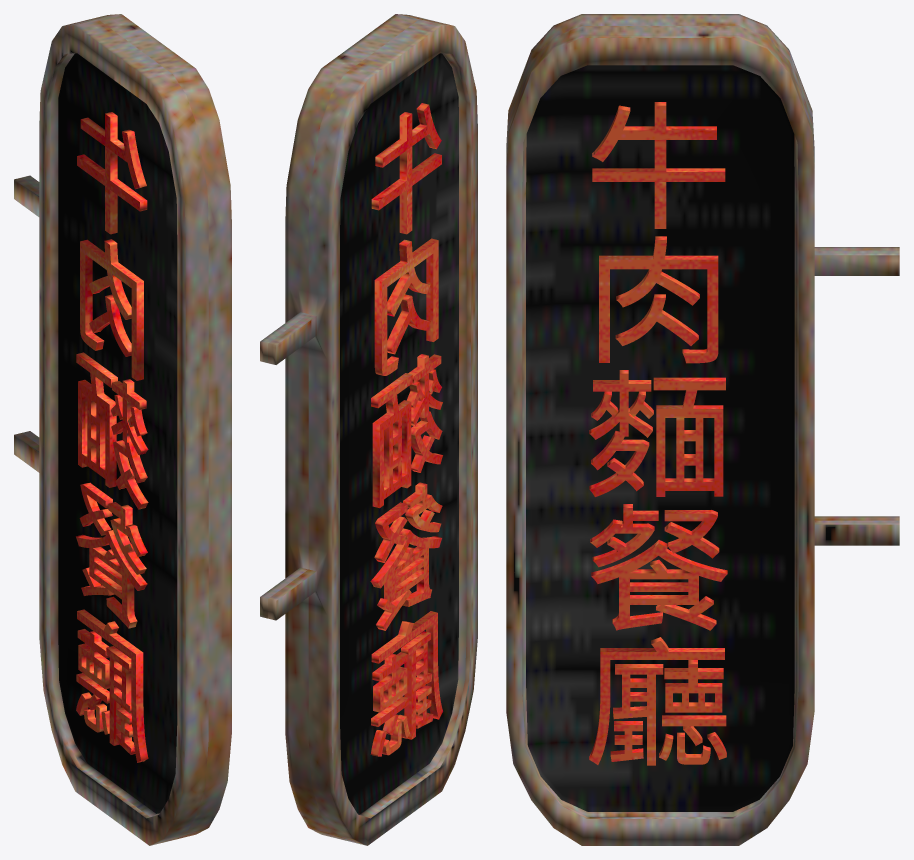
The model's file is StreetSignNeon_Noodles.glb.
3 views of the same model, side by side, from view 1: azimuth 30°, elevation 25°; view 2: azimuth 150°, elevation 25°; view 3: azimuth 270°, elevation 25° (orthographic). The views are drawn at different scales.
Visible parts, largest first — view 1: NEONSIGN; view 2: NEONSIGN; view 3: NEONSIGN.
Part boxes in pixels (<box>): NEONSIGN: <box>14,14,231,845</box>; NEONSIGN: <box>260,14,477,845</box>; NEONSIGN: <box>506,14,899,845</box>.
Bounding box in the file's own units: 0.1678 × 2.2 × 0.9691.
2 materials, 2 textured.
